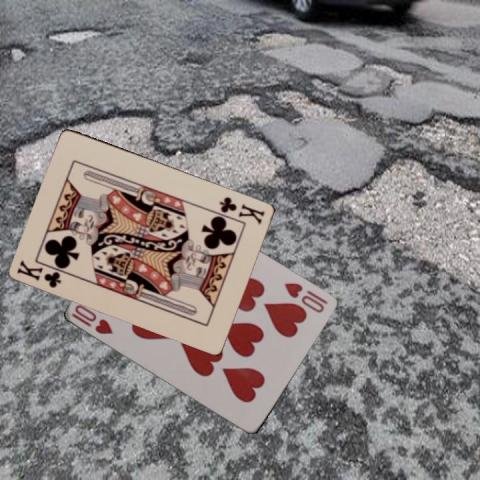10h: (282, 279, 330, 315), (68, 301, 114, 336)
Kc: (217, 194, 267, 226), (14, 258, 63, 290)
